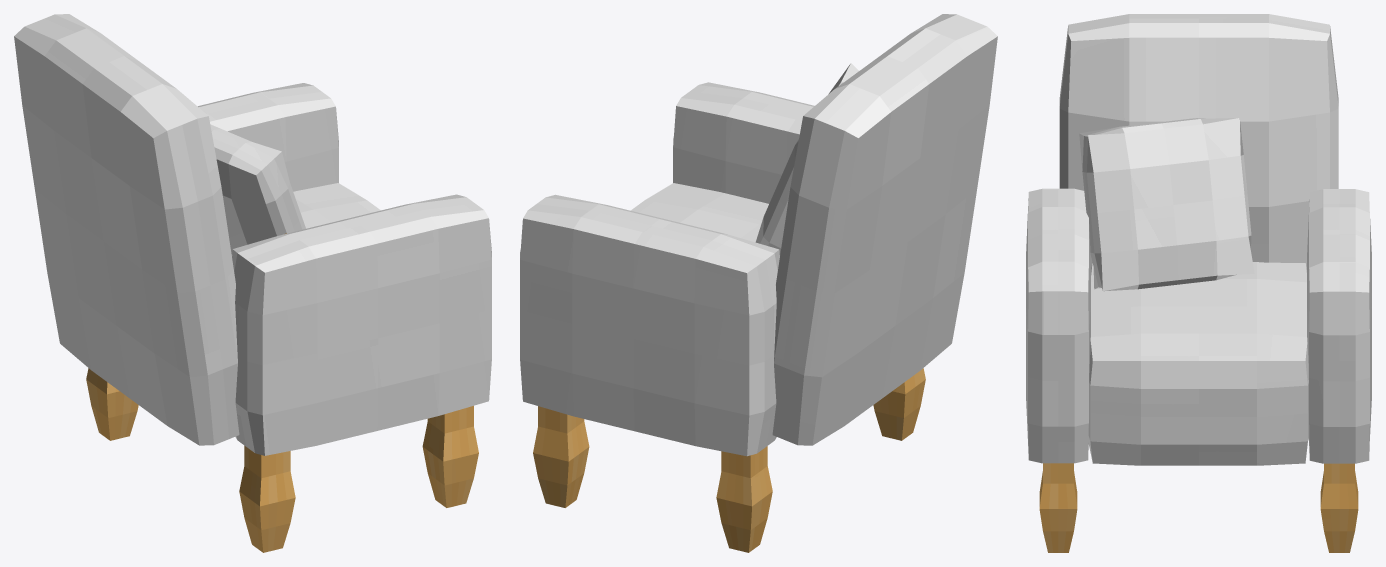
Rendered from simple_small_sofa.obj.
The picture shows the model from 3 angles, left to right: view 1: azimuth 30°, elevation 25°; view 2: azimuth 150°, elevation 25°; view 3: azimuth 270°, elevation 25°; orthographic projection. The views are drawn at different scales.
Parts seen in each view (by area): view 1: Cube.003; view 2: Cube.003; view 3: Cube.003.
Boxes of the visible parts, x1,y1,x2,y2 form: Cube.003: [14, 14, 491, 552]; Cube.003: [520, 14, 997, 552]; Cube.003: [1026, 14, 1371, 552].
Bounding box in the file's own units: 3.18 × 4.23 × 3.2.
